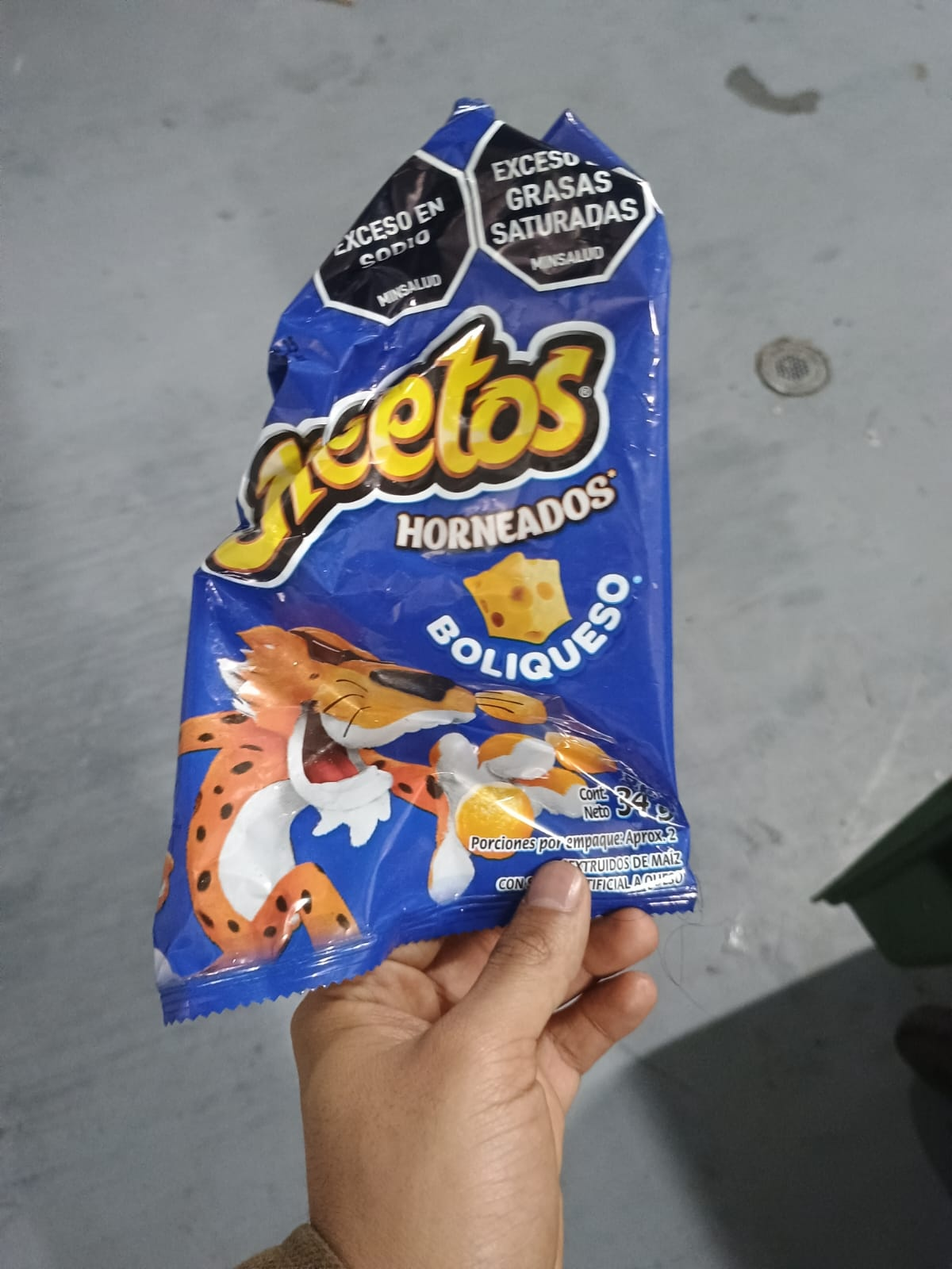Ordinario: (150, 94, 698, 1028)
